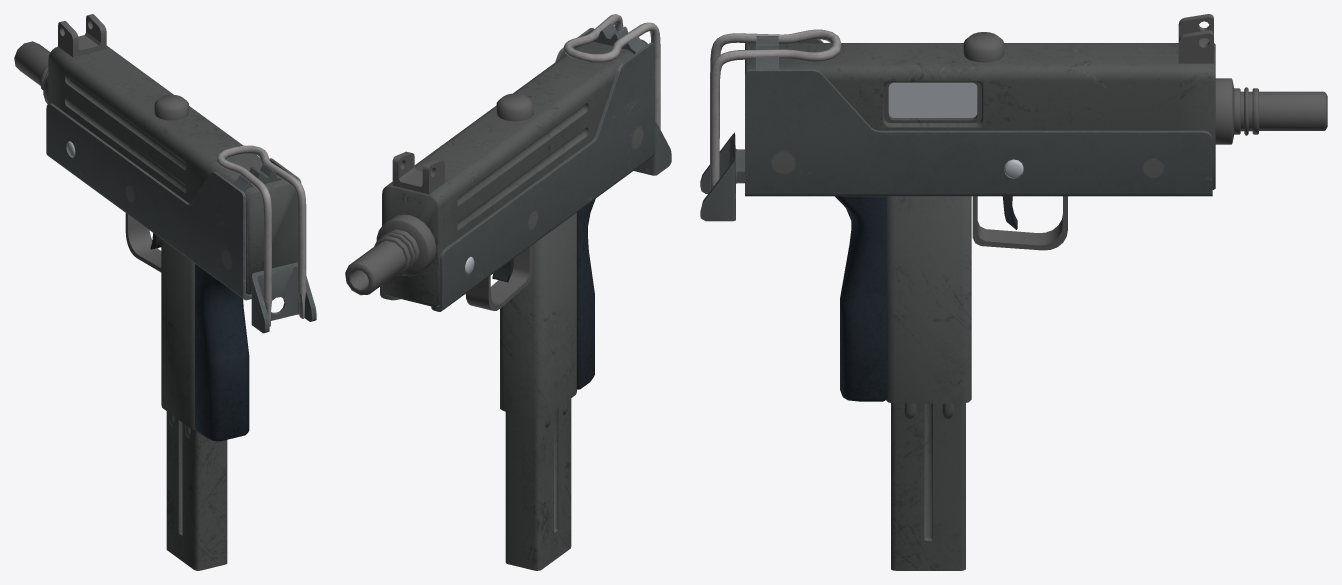
File: wm_mac10.fbx
3 renders of one model, left to right at view 1: azimuth 30°, elevation 25°; view 2: azimuth 150°, elevation 25°; view 3: azimuth 270°, elevation 25°, orthographic. The views are drawn at different scales.
Visible parts, largest first — view 1: MAC10_LOD0; view 2: MAC10_LOD0; view 3: MAC10_LOD0.
Boxes of the visible parts, bbox=[...] form: MAC10_LOD0: bbox=[14, 14, 316, 570]; MAC10_LOD0: bbox=[345, 14, 671, 570]; MAC10_LOD0: bbox=[700, 14, 1327, 570].
Size of what is drawn, in the model's own units: 44.16 by 301 by 319.
